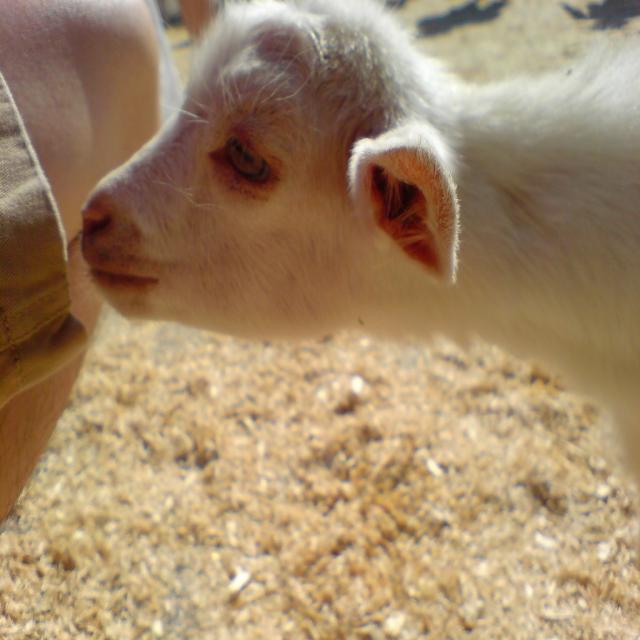Goat: (80, 0, 640, 487)
